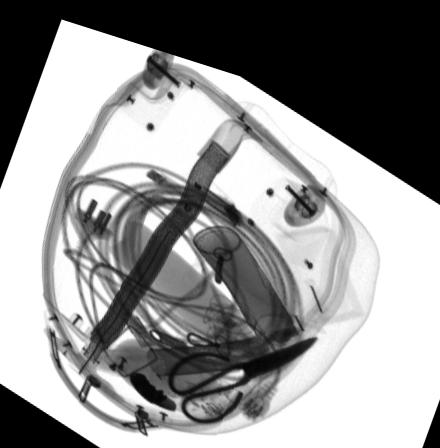Knife: (130, 363, 178, 401)
Scissors: (168, 315, 318, 412)
